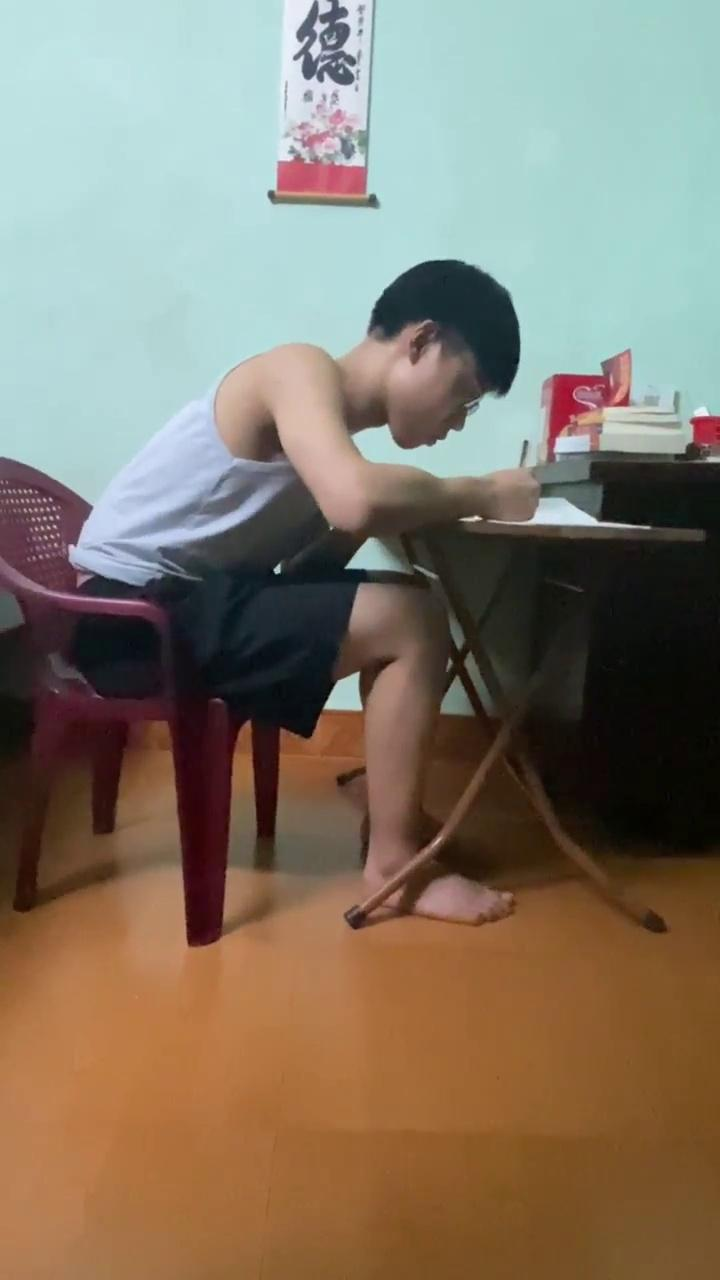BadPosture: (70, 259, 537, 885)
